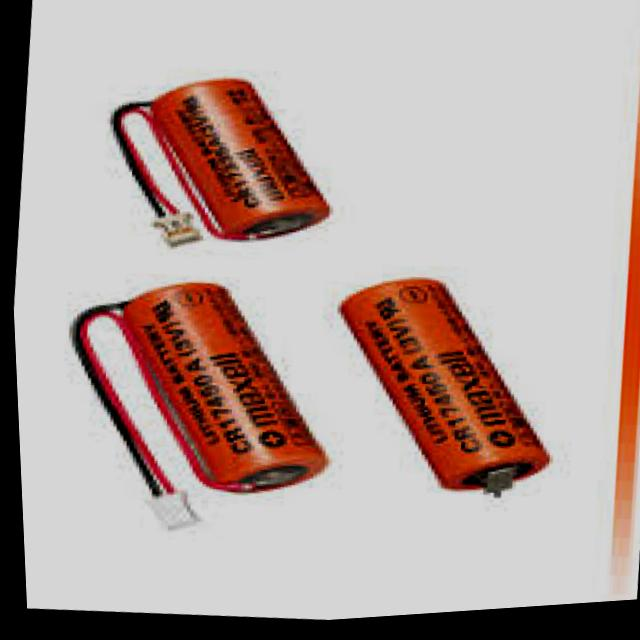B3: (316, 234, 579, 537)
